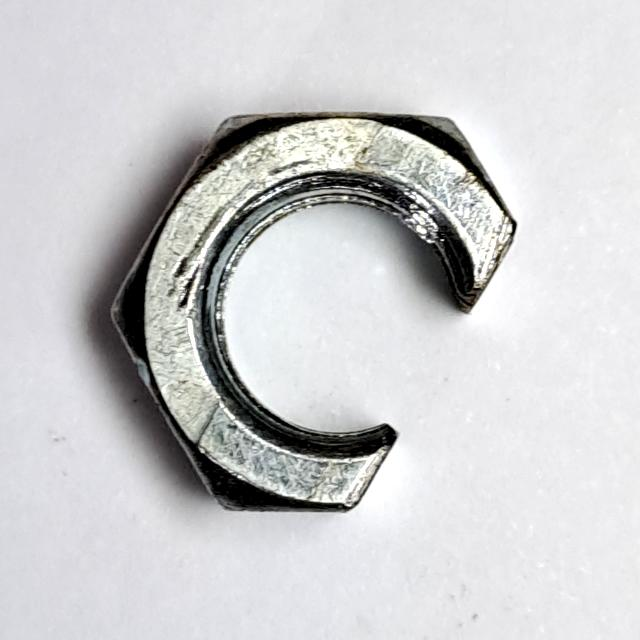Fracture: (94, 102, 532, 520)
